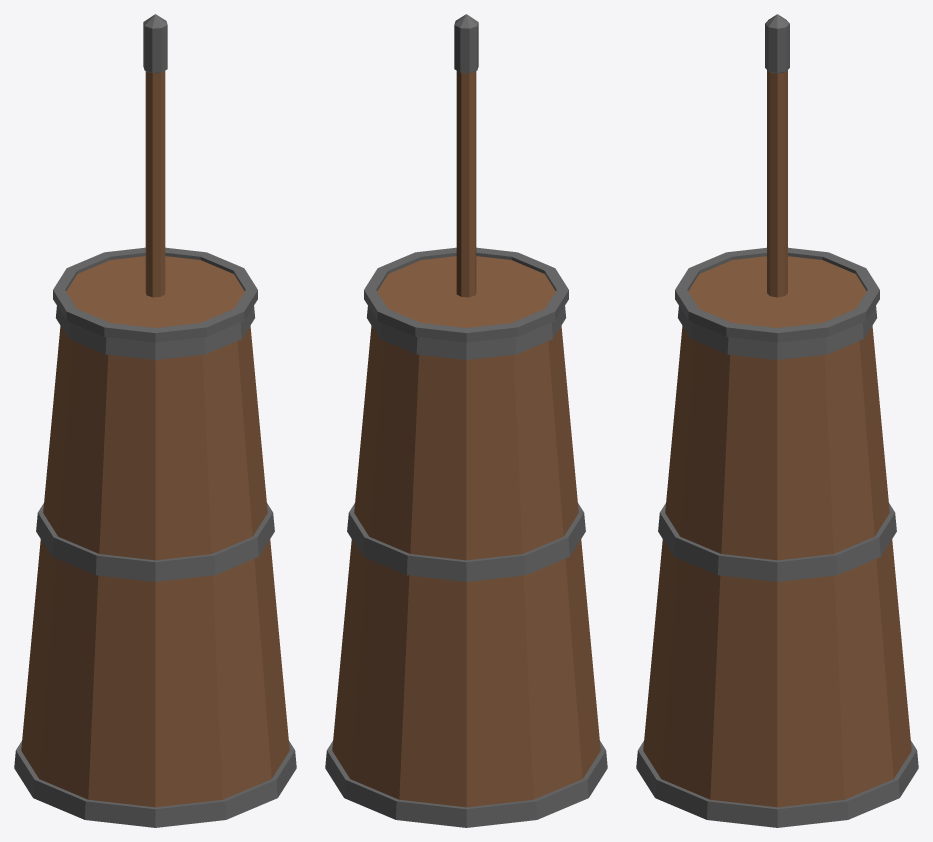
The model's file is Churner.fbx.
The picture shows the model from 3 angles, left to right: view 1: azimuth 30°, elevation 25°; view 2: azimuth 150°, elevation 25°; view 3: azimuth 270°, elevation 25°; orthographic projection.
Visible parts, largest first — view 1: Churner1, ChurnerCap; view 2: Churner1, ChurnerCap; view 3: Churner1, ChurnerCap.
Part boxes in pixels (x1=…): Churner1: x1=14, y1=306, x2=296, y2=827; ChurnerCap: x1=53, y1=14, x2=257, y2=342; Churner1: x1=325, y1=306, x2=607, y2=827; ChurnerCap: x1=364, y1=14, x2=568, y2=342; Churner1: x1=636, y1=306, x2=918, y2=827; ChurnerCap: x1=675, y1=14, x2=879, y2=342.
Bounding box in the file's own units: 54.61 × 161 × 54.61.
